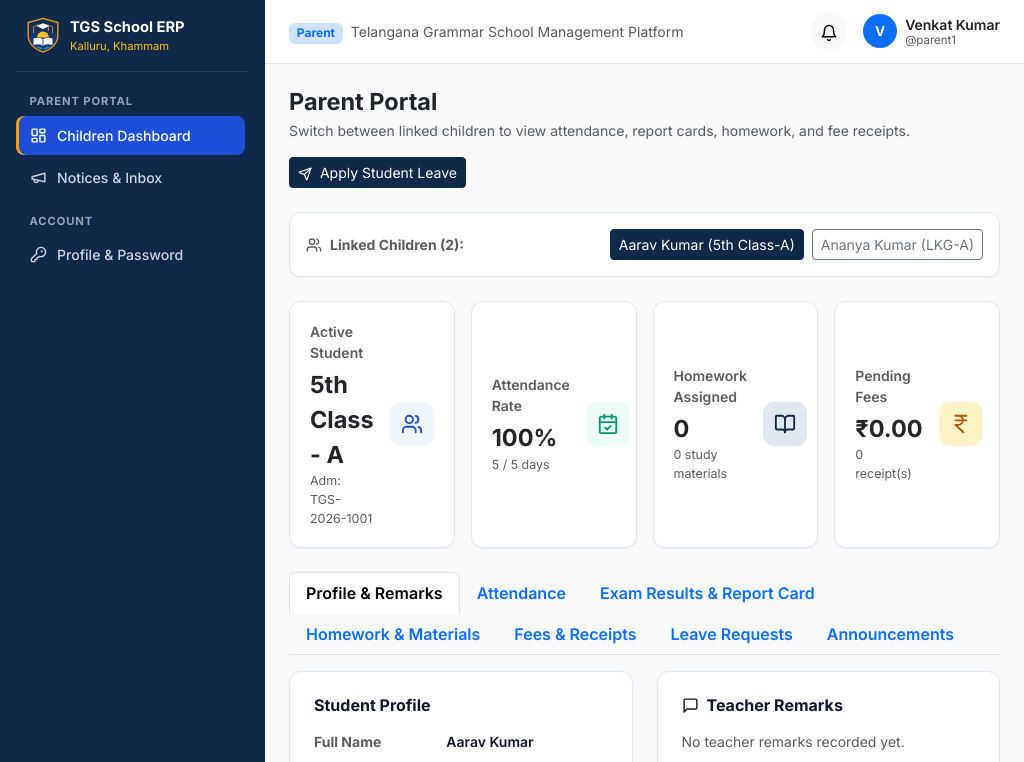
Scenario: Telangana Grammar School Frontend Suite › supports multi-child switching on Parent Dashboard
Expected: the text "Aarav Kumar" is shown, [446,733,534,750]
Click the button "Ananya Kumar (LKG-A)": (897, 245) [812,229,983,260]
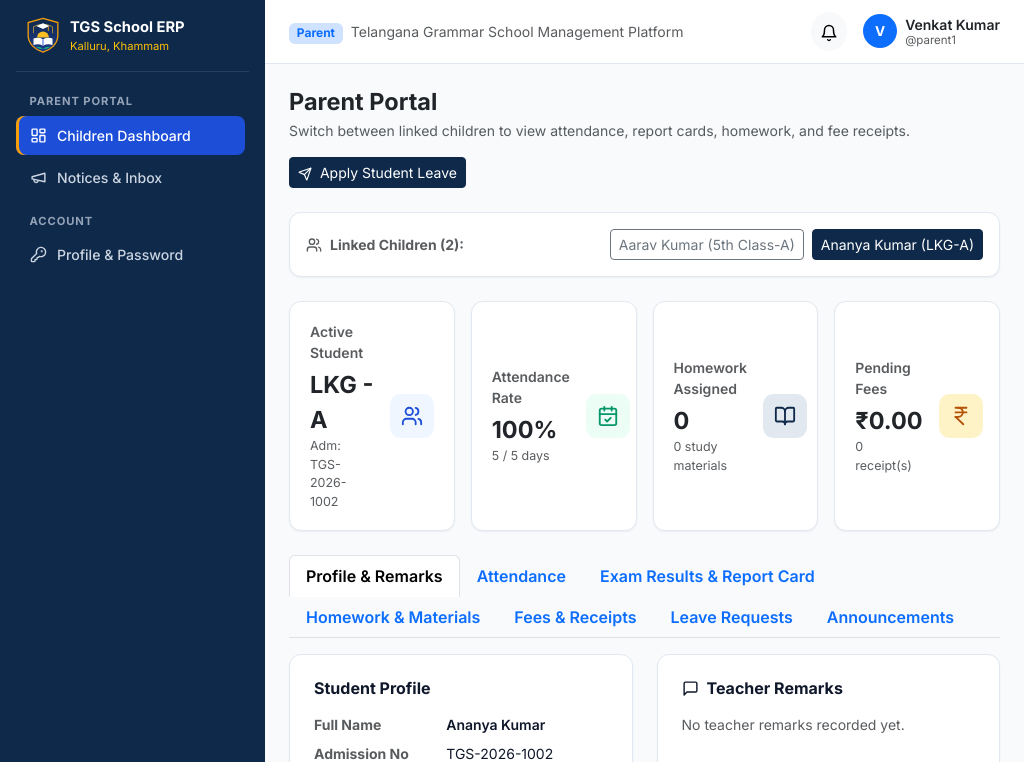
Expected: the text "Ananya Kumar" is shown, [446,716,545,733]
